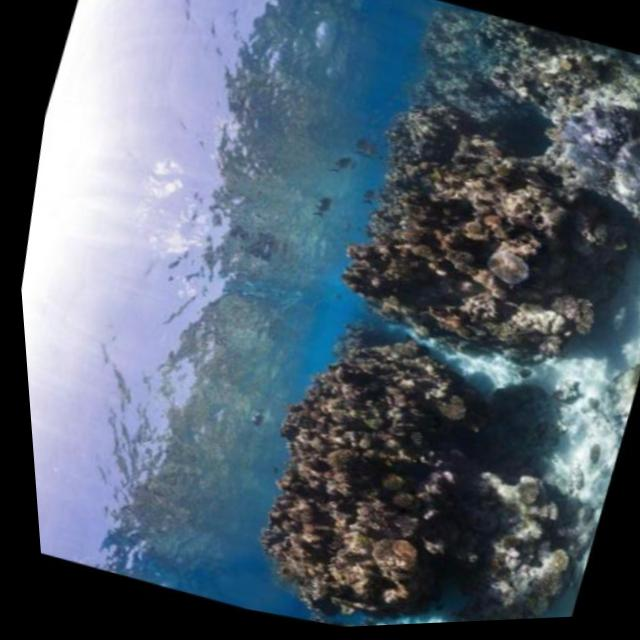Dead Coral: (197, 0, 640, 633)
